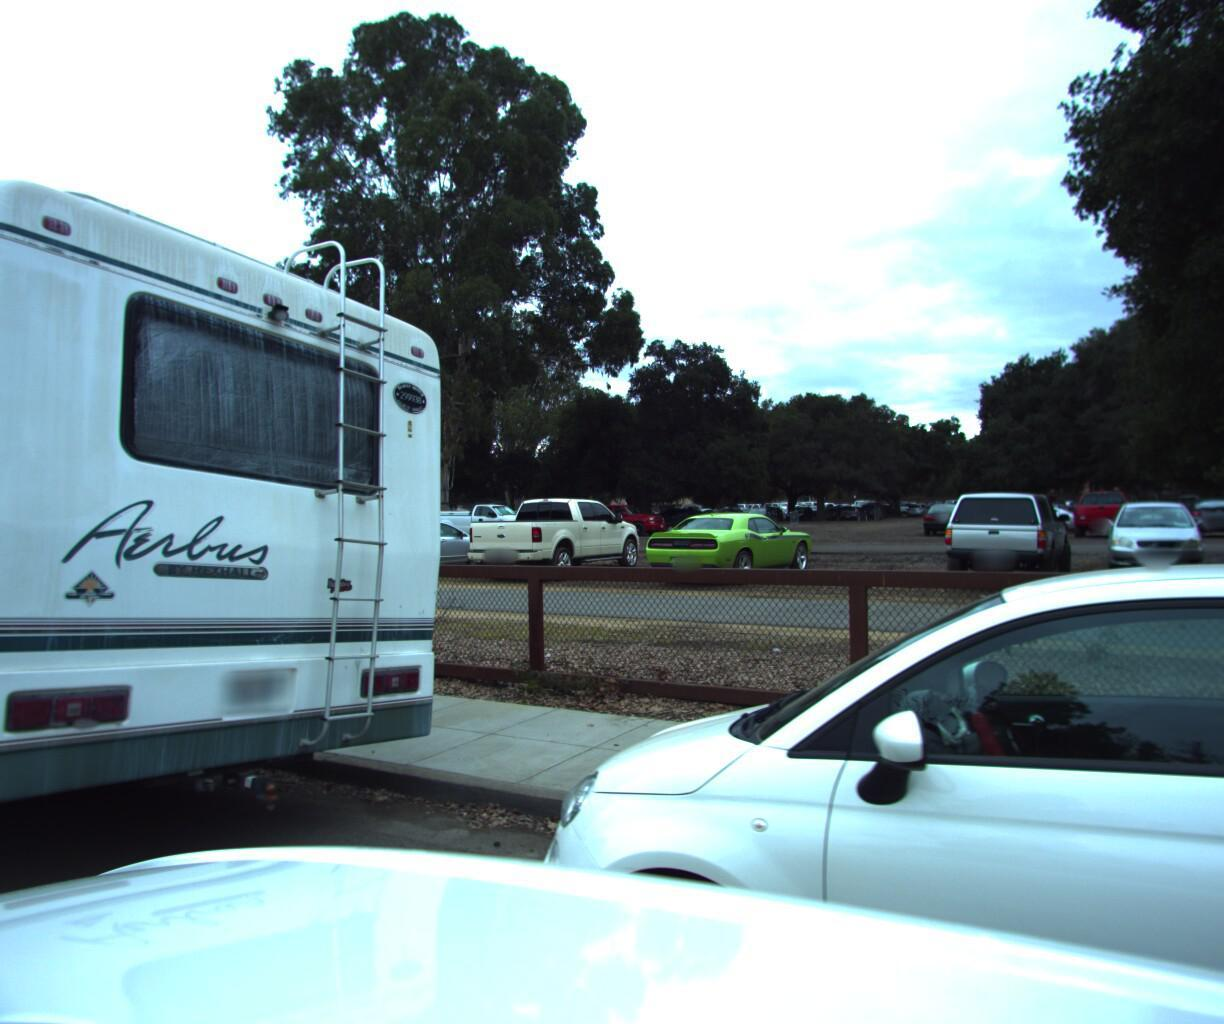car: (457, 544, 1224, 1024)
other_vehicle: (0, 38, 525, 1024)
